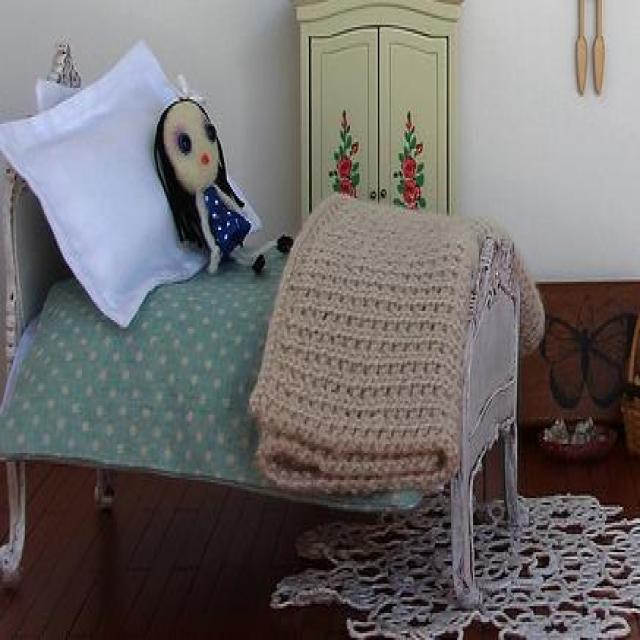bed: (3, 30, 544, 619)
